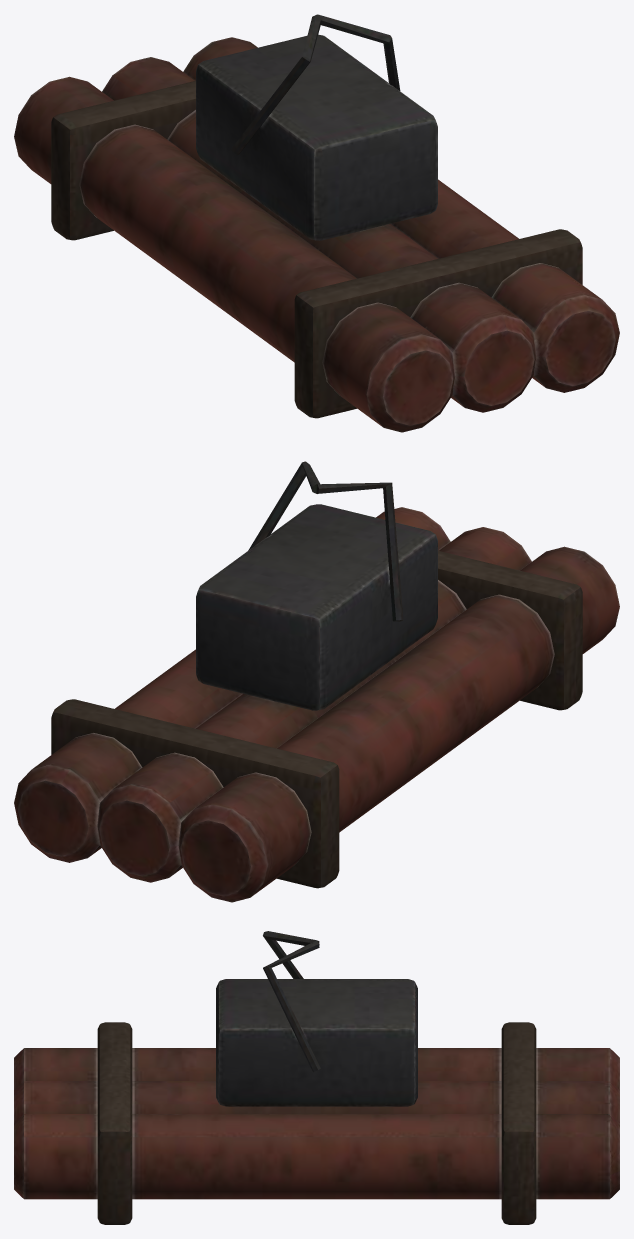
File: raider_demolition_bomb.glb
3 views of the same model, one above another, from view 1: azimuth 30°, elevation 25°; view 2: azimuth 150°, elevation 25°; view 3: azimuth 270°, elevation 25° (orthographic). The views are drawn at different scales.
Parts seen in each view (by area): view 1: raider_demolition_bomb; view 2: raider_demolition_bomb; view 3: raider_demolition_bomb.
Part boxes in pixels (x1,y1,x2,y2): raider_demolition_bomb: (14, 14, 619, 432); raider_demolition_bomb: (14, 461, 619, 902); raider_demolition_bomb: (14, 931, 619, 1224).
Size of the model in its own units: 0.1055 by 0.1026 by 0.243.
1 material, 1 textured.
